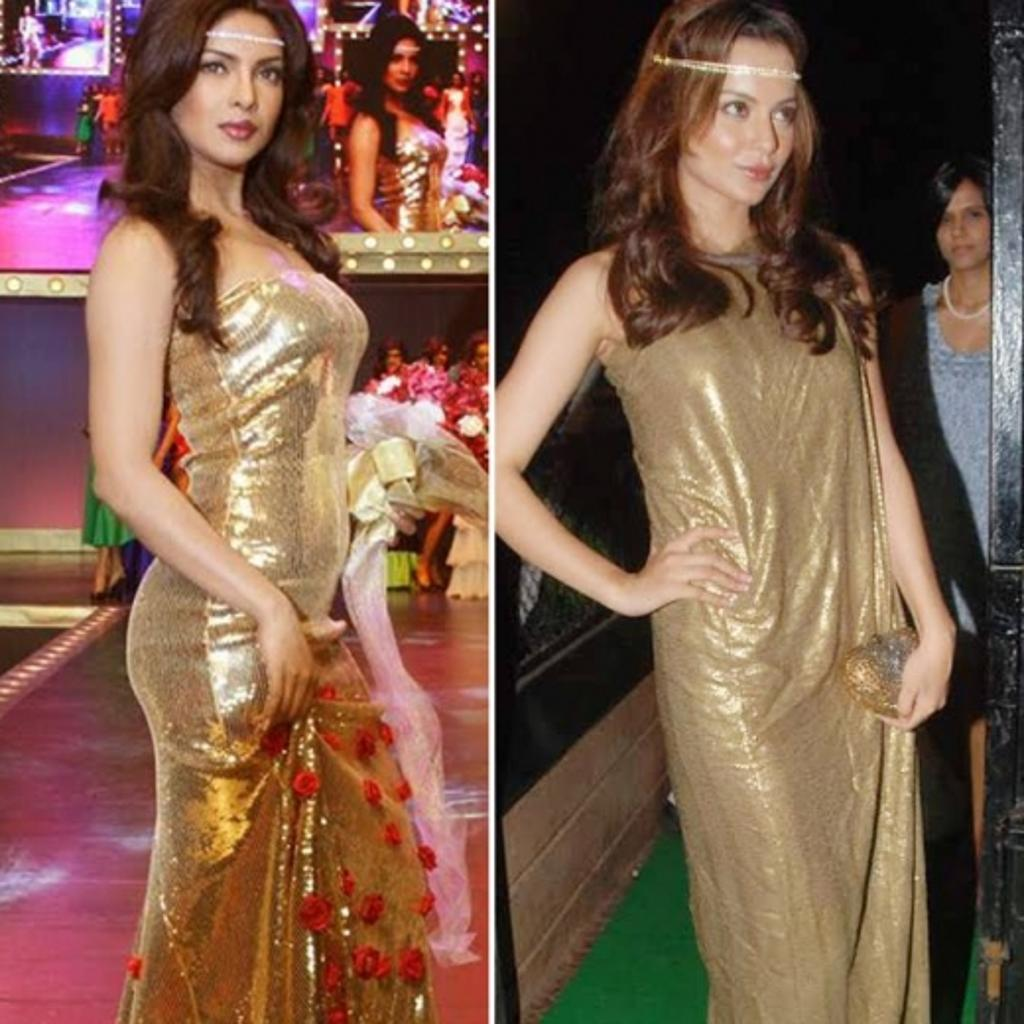face: (682, 48, 797, 203), (171, 11, 284, 164), (936, 184, 990, 266), (383, 40, 419, 91), (476, 346, 494, 371), (384, 350, 402, 370), (433, 347, 445, 364), (453, 75, 460, 85), (316, 71, 322, 79)
